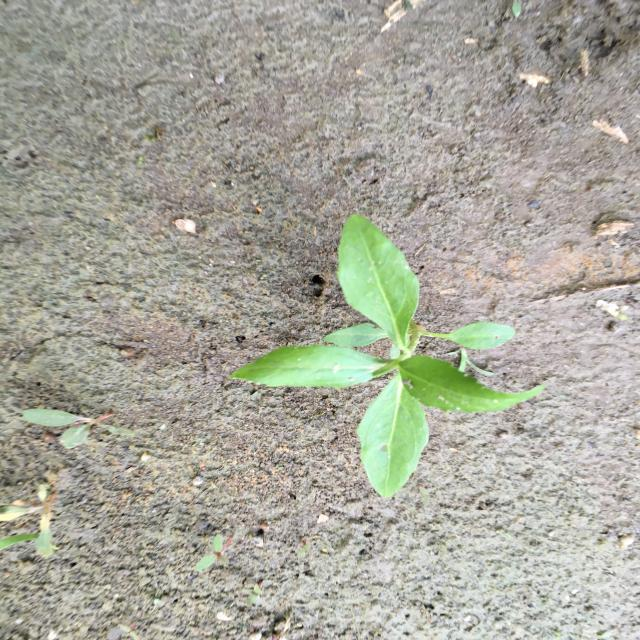Eclipta: (226, 210, 546, 500)
Waterhemp: (18, 404, 142, 448)
